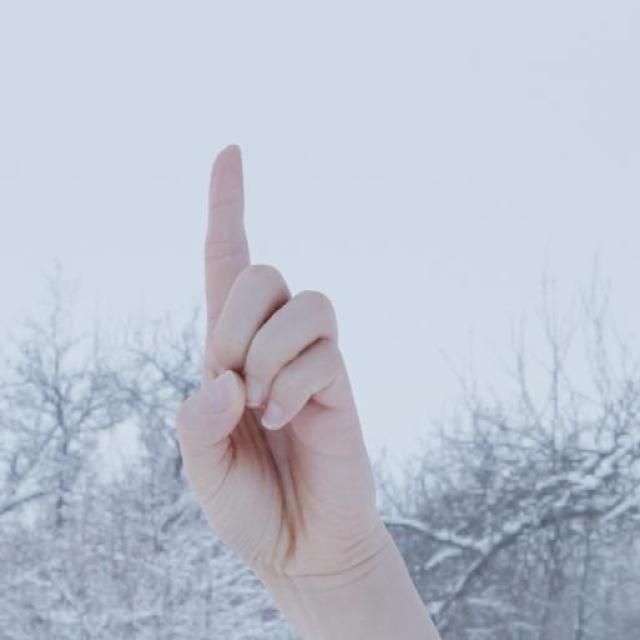D: (174, 140, 409, 566)
